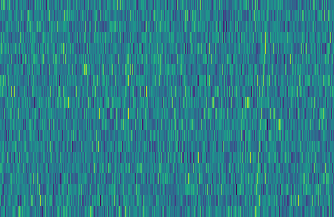signal: (252, 0, 274, 217)
